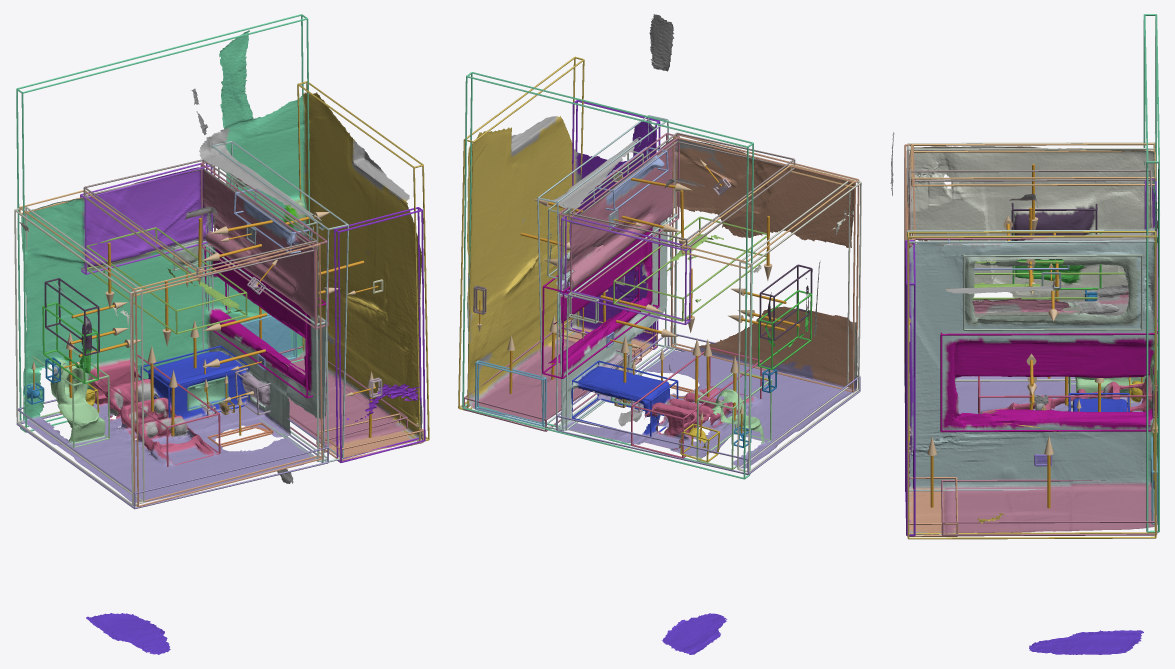
The model's file is scene_00119_02-obb.compressed.gltf.
3 renders of one model, left to right at view 1: azimuth 30°, elevation 25°; view 2: azimuth 150°, elevation 25°; view 3: azimuth 270°, elevation 25°, orthographic. The views are drawn at different scales.
Bounding box in the file's own units: 3.84 × 6.6 × 2.73.
